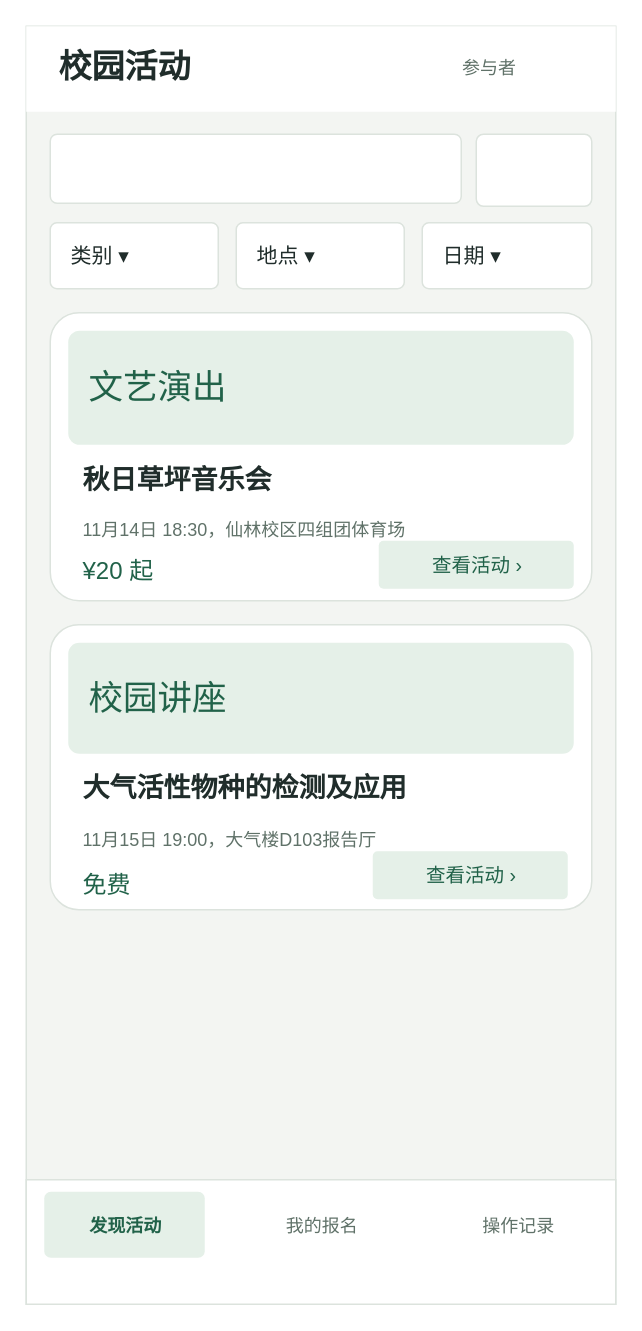
This 642x1331 diagram has some shape labels left out. The shapes that lost their labels are listed below. From the top down, each one's centre as x and y in pixels, then its label:
point (255, 168): 搜索活动或关键词
point (533, 169): 筛选
